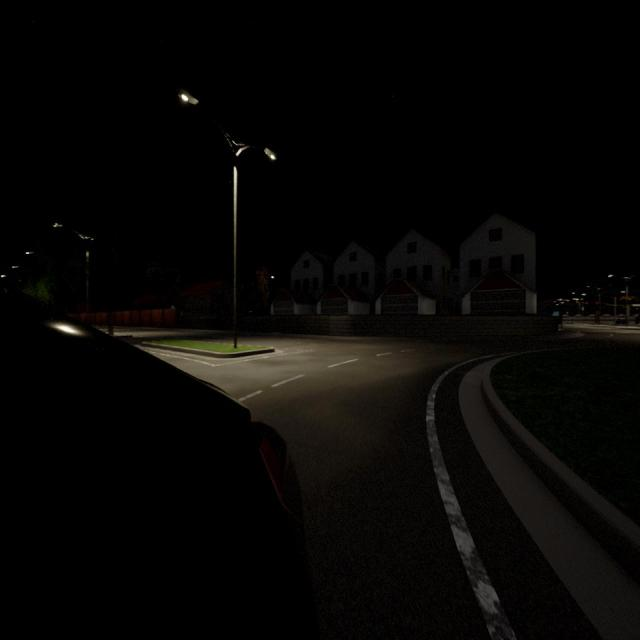Pedestrian: (107, 310, 113, 334)
Vehicle: (0, 295, 317, 640)
traffic_light: (585, 302, 588, 304), (596, 302, 598, 305)
